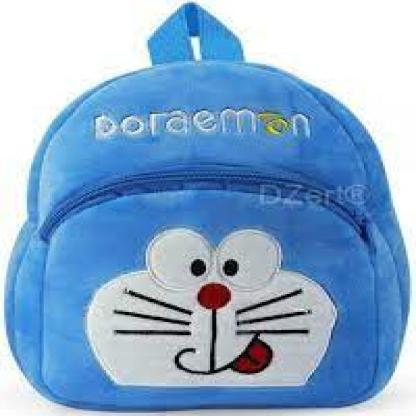bag: (5, 0, 416, 409)
